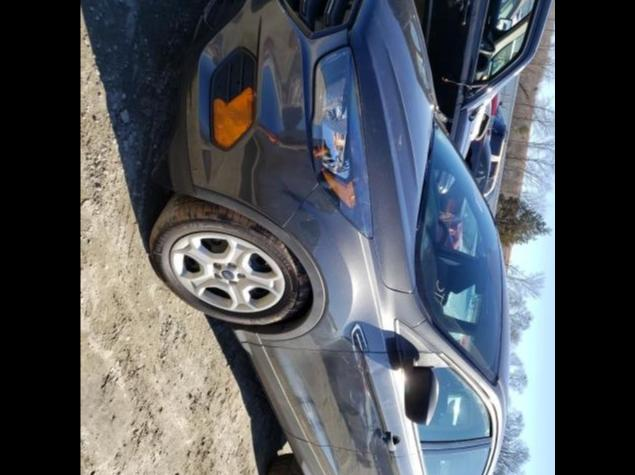Dent: (267, 176, 335, 256)
